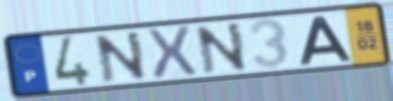3: (247, 16, 293, 72)
4: (52, 34, 95, 89)
A: (298, 15, 355, 67)
N: (91, 29, 149, 85), (192, 20, 250, 76)
X: (143, 24, 200, 82)
